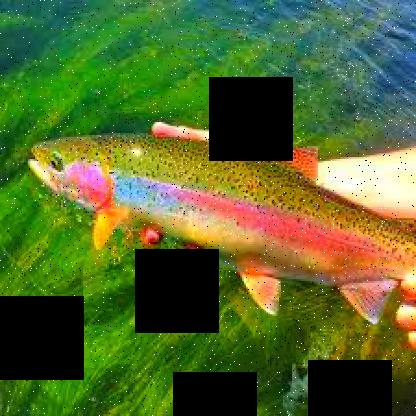fish: (24, 130, 414, 324)
